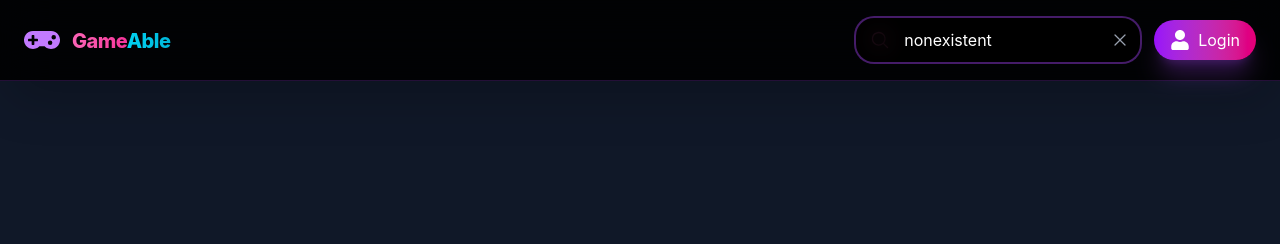
Navbar - Suggestions Dropdown › shows 'No games found' message when searchQuery exists but no suggestions
The image size is (1280, 244).
Focus the field named "Search for games" at {"x": 998, "y": 40}, box [854,16,1142,64]
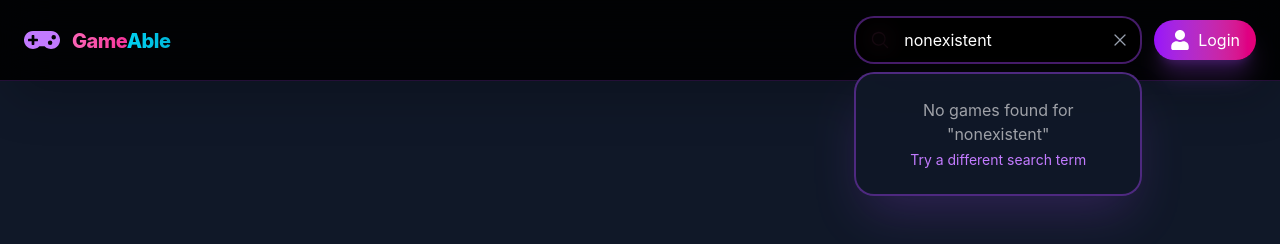
Check: the text "No games found for \"nonexistent\"" is shown, box [923,100,1074,144]
Check: the text "Try a different search term" is shown, box [910,151,1086,168]
